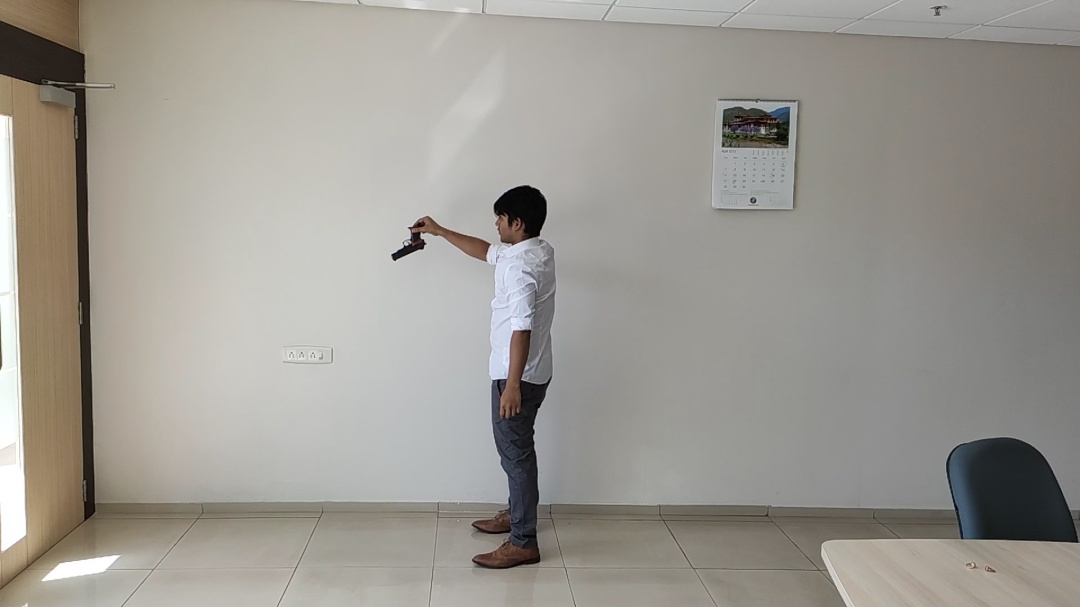gun: (296, 166, 754, 419)
